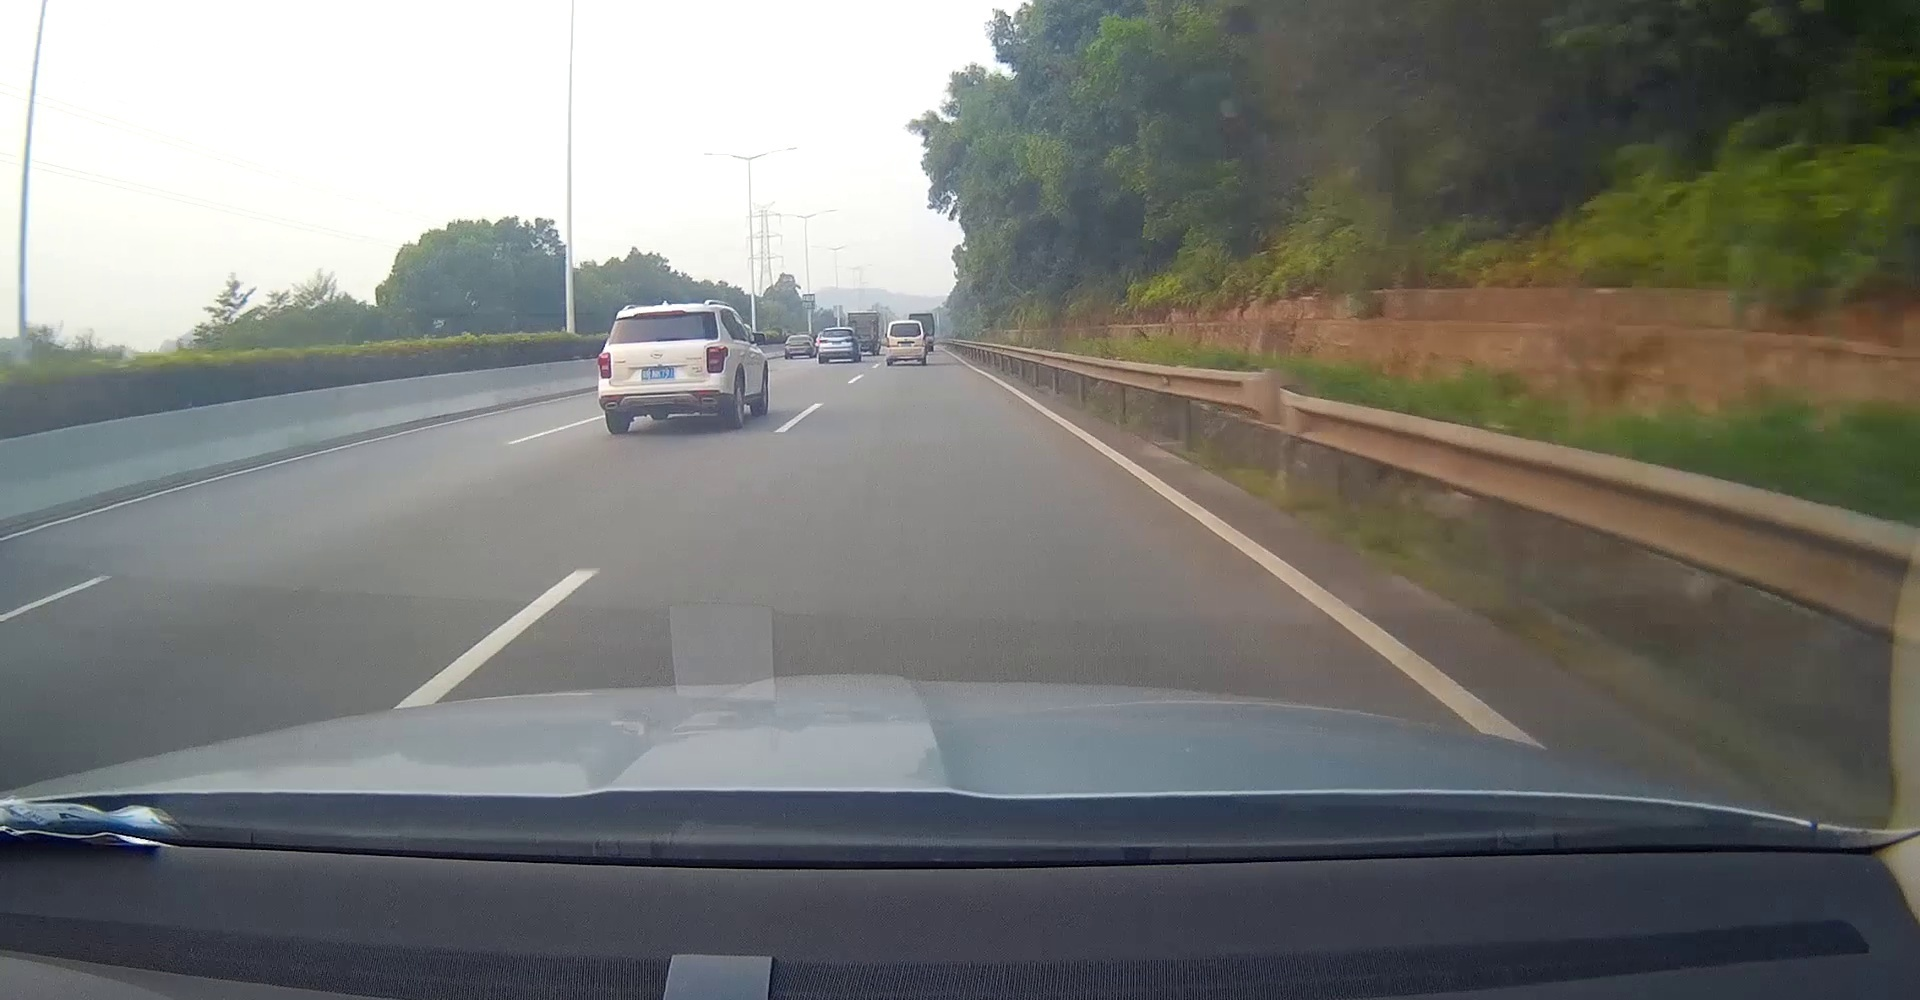L_light: (597, 352, 612, 379)
R_light: (706, 345, 728, 374)
T_light: (634, 310, 687, 319)
day-no: (597, 303, 730, 434)
